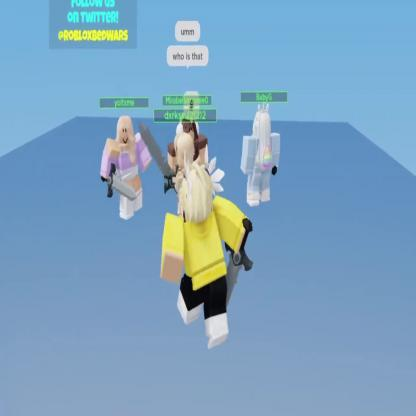Roblox-Avatar: (161, 145, 255, 351), (101, 116, 153, 221), (242, 103, 282, 208)
